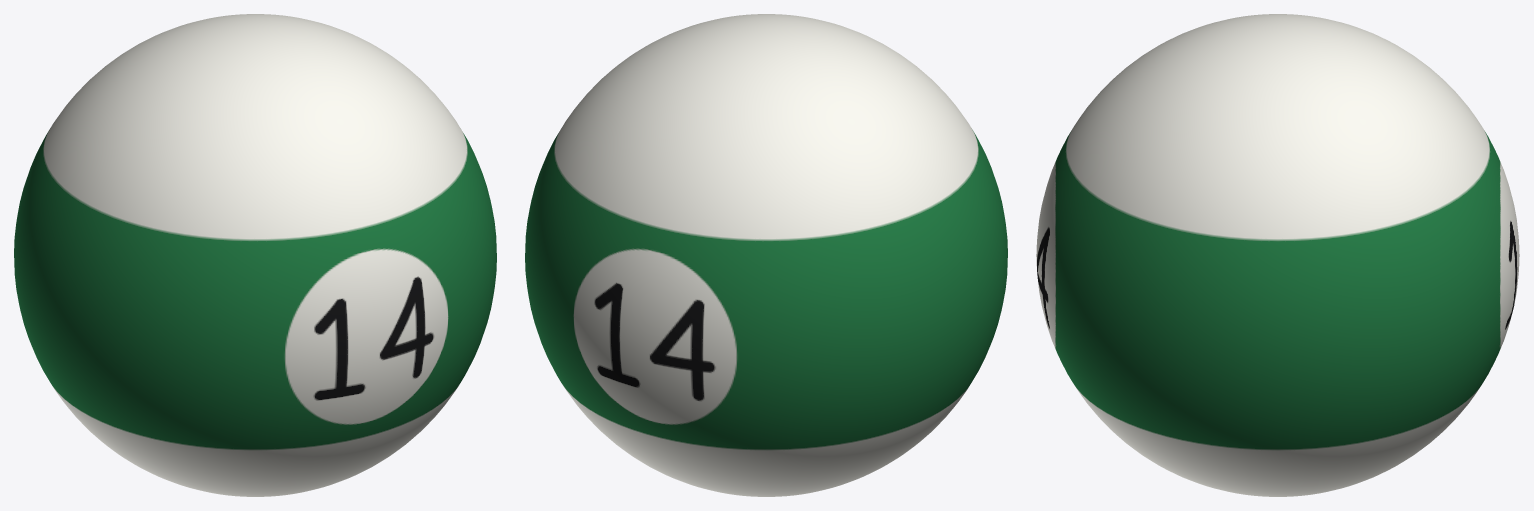
The model's file is ball-14.gltf.
3 views of the same model, side by side, from view 1: azimuth 30°, elevation 25°; view 2: azimuth 150°, elevation 25°; view 3: azimuth 270°, elevation 25° (orthographic).
Visible parts, largest first — view 1: Ball_14; view 2: Ball_14; view 3: Ball_14.
Boxes of the visible parts, box(x1,y1,x2,y2) form: Ball_14: box(14, 14, 496, 496); Ball_14: box(525, 14, 1007, 496); Ball_14: box(1036, 14, 1519, 496).
Bounding box in the file's own units: 0.1 × 0.1 × 0.1.
1 material, 1 textured.
